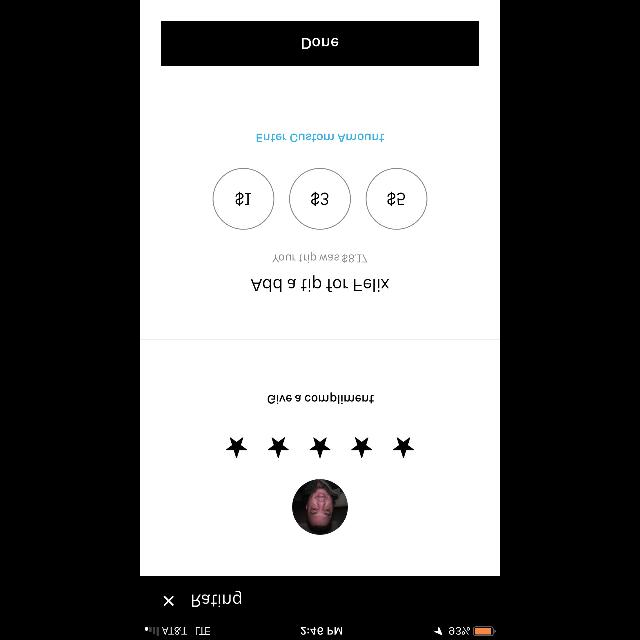icon: (351, 438, 373, 458), (268, 438, 290, 458), (226, 438, 248, 458), (394, 438, 414, 458), (310, 438, 330, 458), (163, 596, 174, 606)
image: (213, 168, 275, 230), (289, 168, 351, 230), (366, 168, 428, 230), (292, 480, 348, 534)
text: (251, 276, 389, 292), (268, 392, 374, 404), (256, 134, 384, 142), (272, 252, 368, 262), (192, 590, 242, 608)
textbutton: (161, 20, 479, 66)
uppertaskbar: (140, 626, 500, 640)
